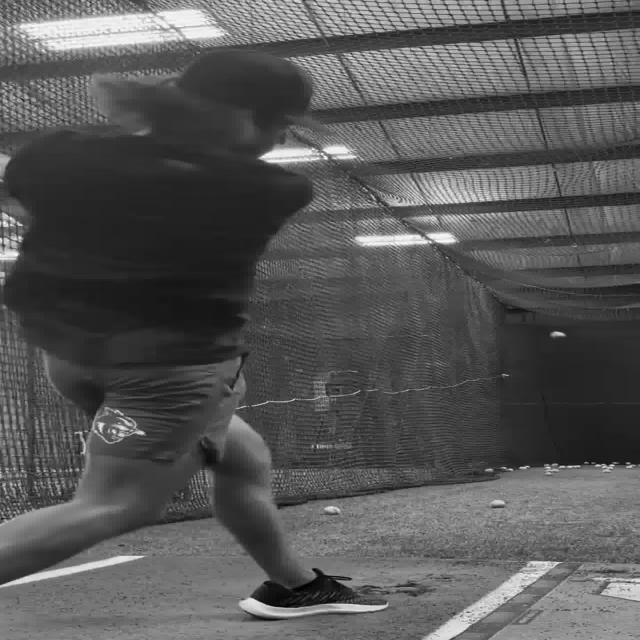baseball: (323, 506, 341, 514), (548, 331, 566, 339), (489, 499, 505, 508)
shoe: (237, 568, 389, 620)
